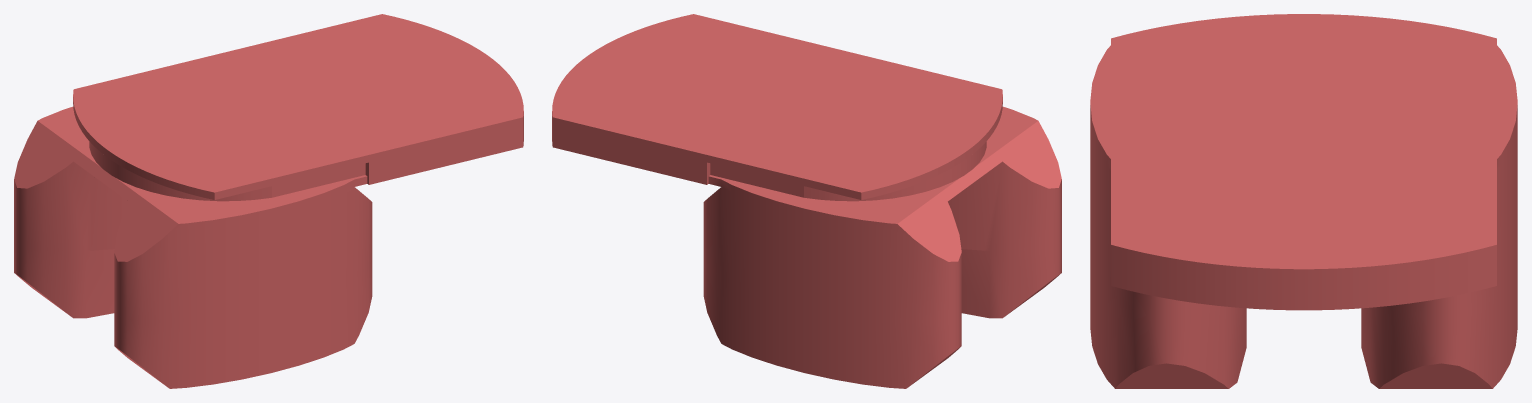
Rendered from Vozik.fbx.
3 views of the same model, side by side, from view 1: azimuth 30°, elevation 25°; view 2: azimuth 150°, elevation 25°; view 3: azimuth 270°, elevation 25° (orthographic). The views are drawn at different scales.
Parts seen in each view (by area): view 1: Vozik; view 2: Vozik; view 3: Vozik.
Boxes of the visible parts, x1,y1,x2,y2 form: Vozik: (14,14,523,388); Vozik: (552,14,1061,388); Vozik: (1090,14,1517,388).
Bounding box in the file's own units: 29.36 × 12.43 × 18.82.
